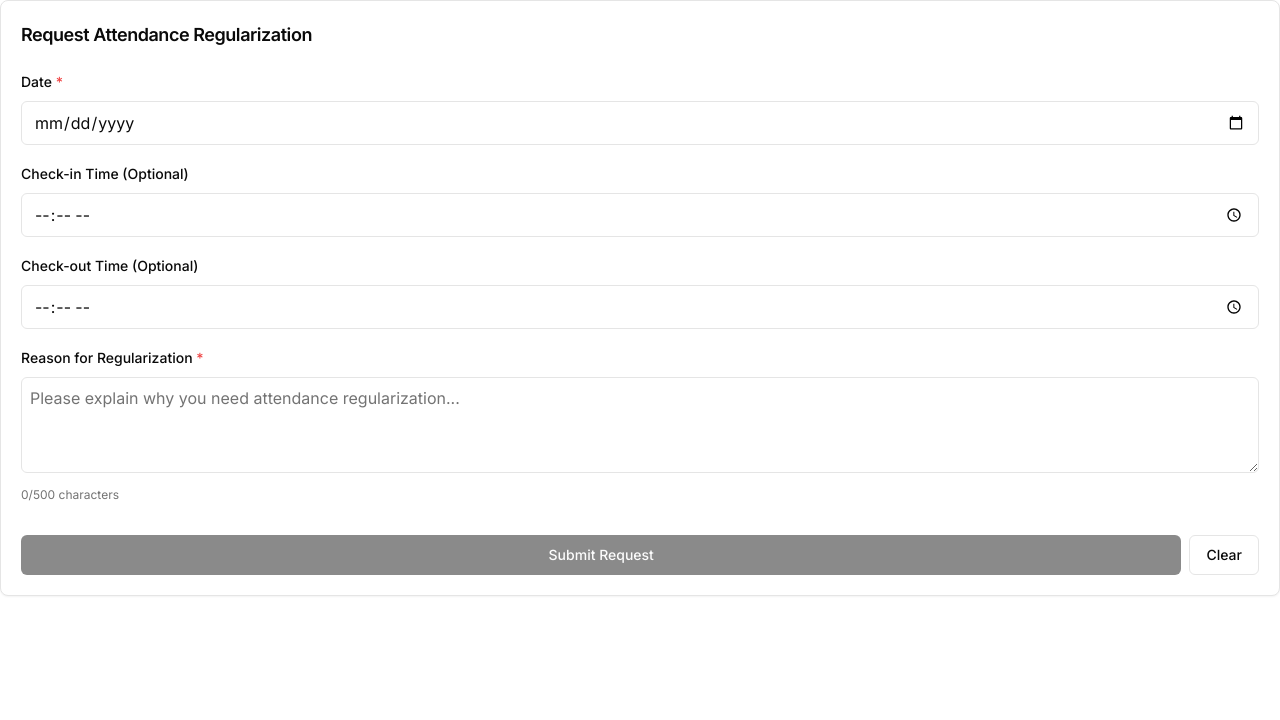
Test case: RegularizationRequest Component › should display error message on submission failure
Type "2024-01-15" into the date field labelled "Date *". click: (640, 123)
box: [21,101,1259,145]
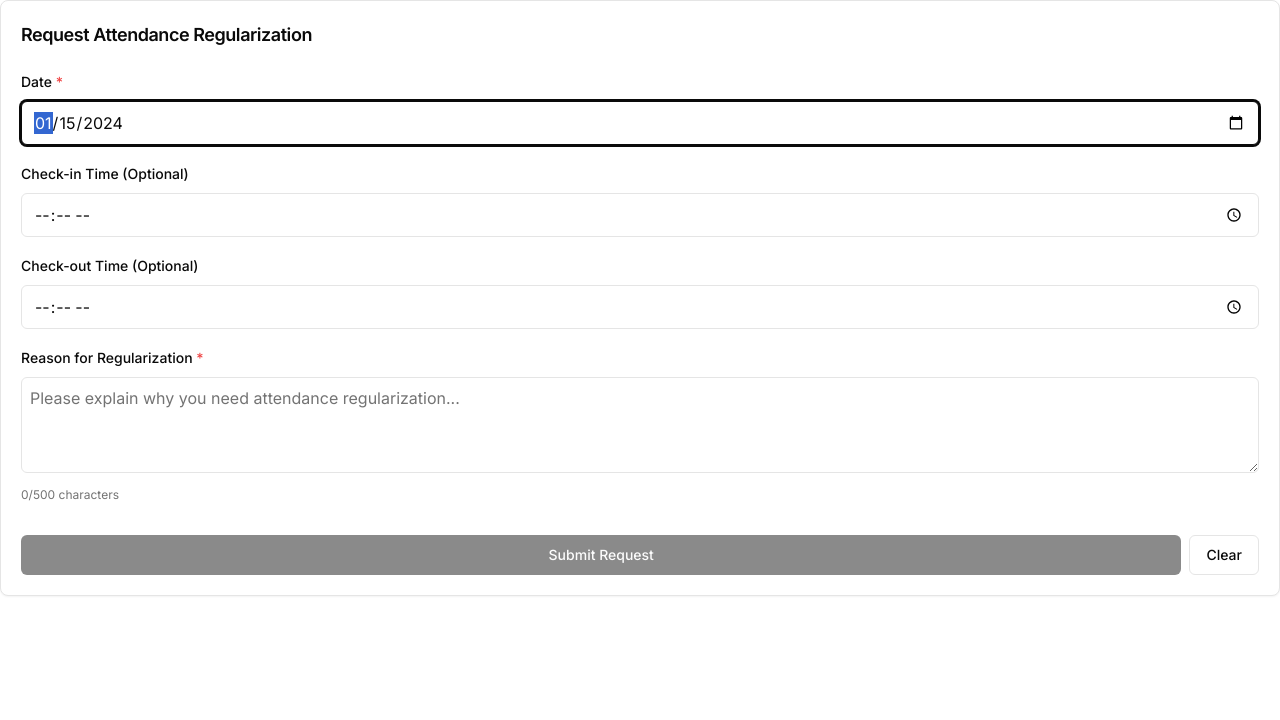
Type "System was down" into the text box with placeholder "Please explain why you need attendance regularization...". click: (640, 425)
box: [21,377,1259,473]
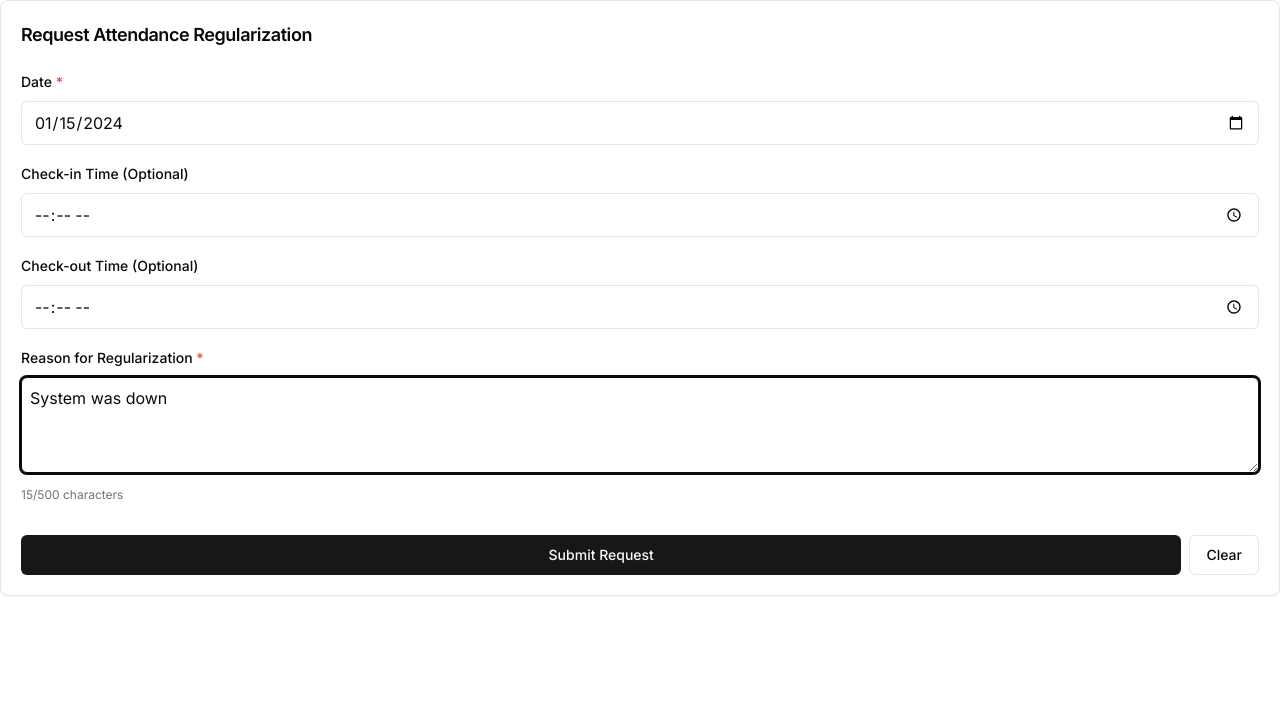
Click the button "Submit Request". click: (601, 555)
box: [21,535,1182,575]
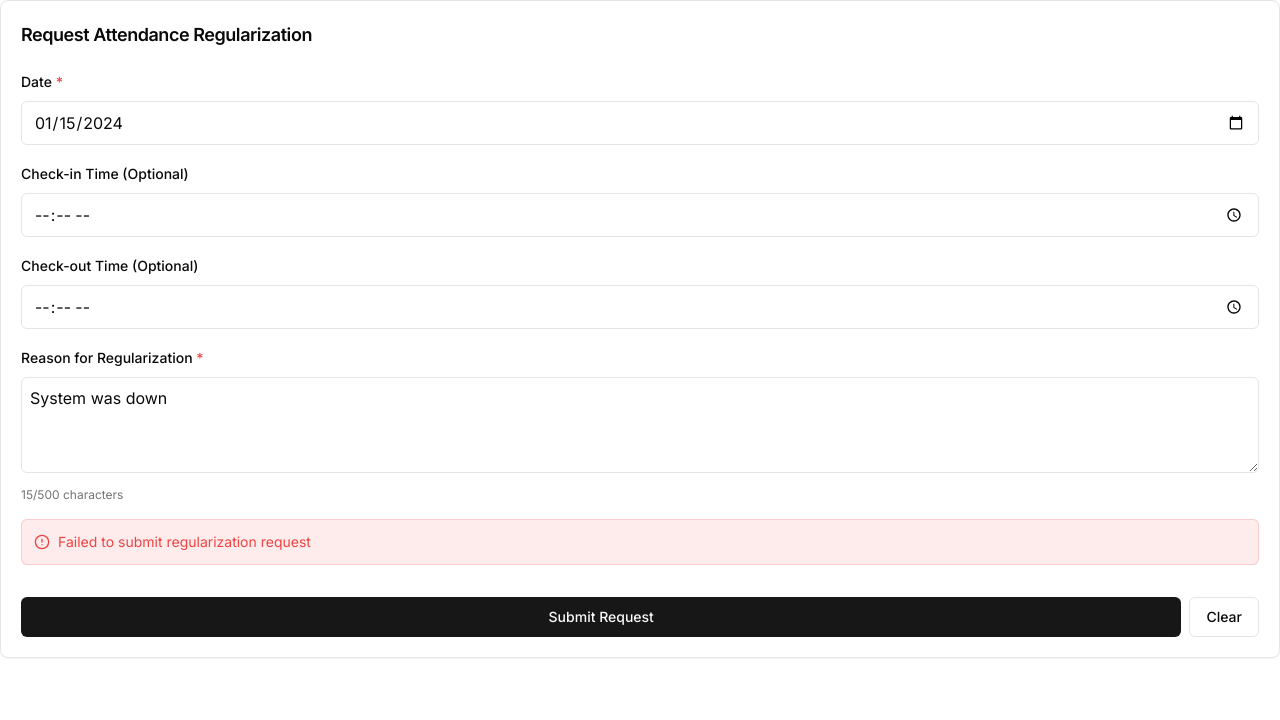
Check: the text "Failed to submit regularization request" is shown, box [58,532,311,552]
